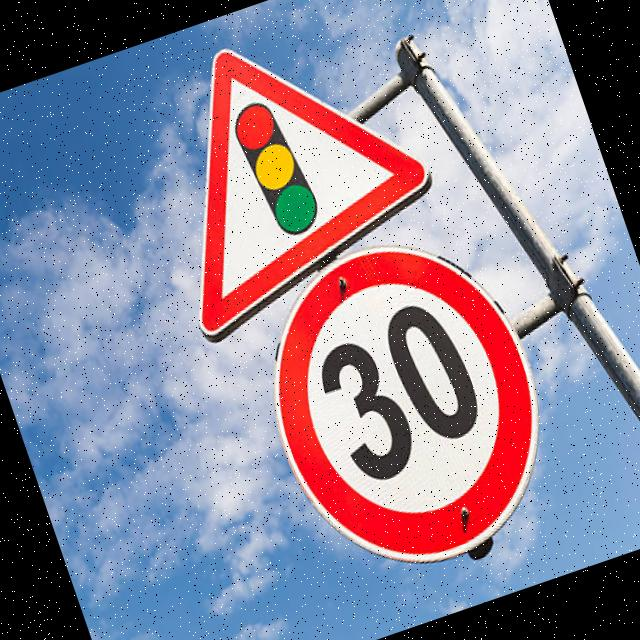light_traffic: (196, 40, 430, 342)
speed_limit_30: (263, 237, 548, 568)
